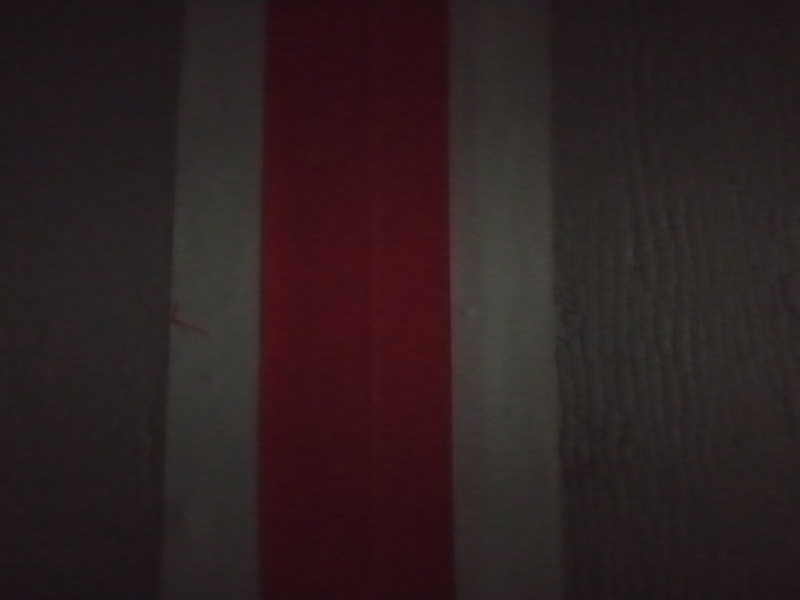reta: (164, 15, 586, 600)
